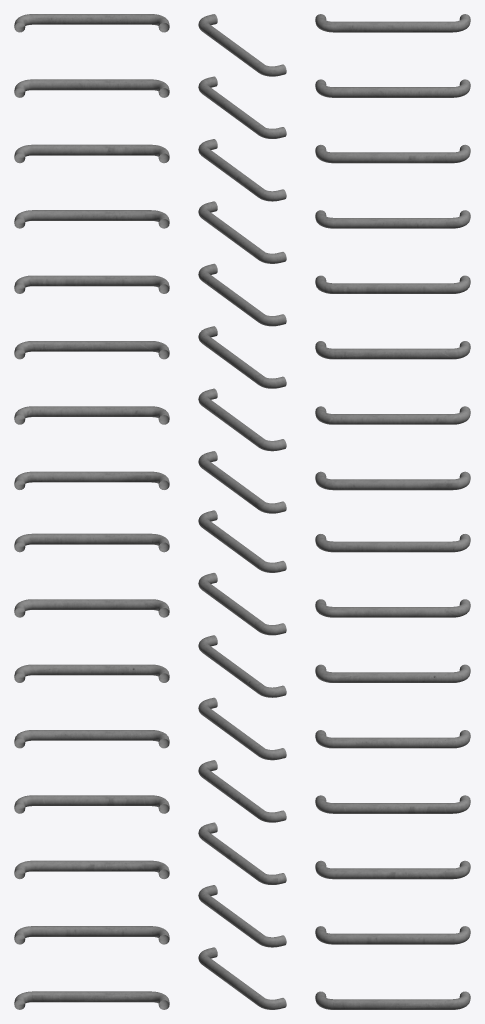
File: ladder (1).glb
3 views of the same model, side by side, from view 1: azimuth 90°, elevation 25°; view 2: azimuth 210°, elevation 25°; view 3: azimuth 270°, elevation 25° (orthographic). The views are drawn at different scales.
Parts seen in each view (by area): view 1: ladder-noback.001; view 2: ladder-noback.001; view 3: ladder-noback.001.
Part boxes in pixels (x1,y1,x2,y2): ladder-noback.001: (14, 14, 169, 1009); ladder-noback.001: (198, 14, 286, 1009); ladder-noback.001: (315, 14, 470, 1009).
Bounding box in the file's own units: 1.51 × 66.11 × 9.41.
Materials: 1 (1 with a texture image).
